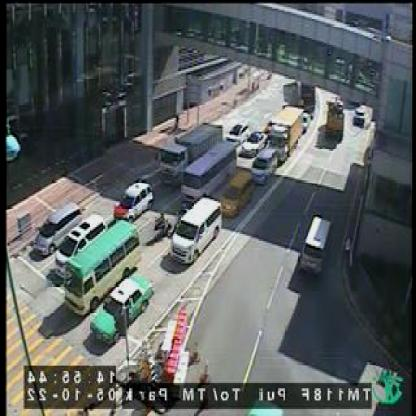Bus: (185, 138, 235, 198)
Car: (91, 272, 153, 342), (56, 212, 105, 279), (173, 196, 222, 263), (35, 197, 82, 254), (299, 215, 331, 272), (115, 179, 154, 220), (221, 170, 252, 217), (252, 148, 278, 180), (245, 130, 269, 153), (230, 119, 251, 140)
Minibus: (64, 219, 140, 316)
Truck: (160, 118, 222, 184), (269, 102, 304, 158)
